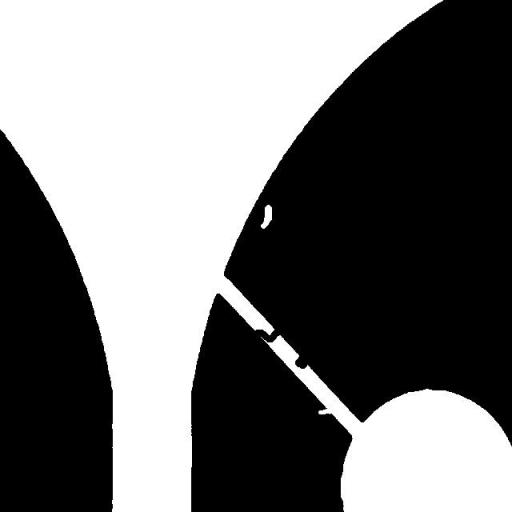mousebite: (310, 400, 338, 422)
pin-hole: (253, 197, 279, 236)
short: (246, 319, 290, 350)
spur: (287, 345, 316, 376)
